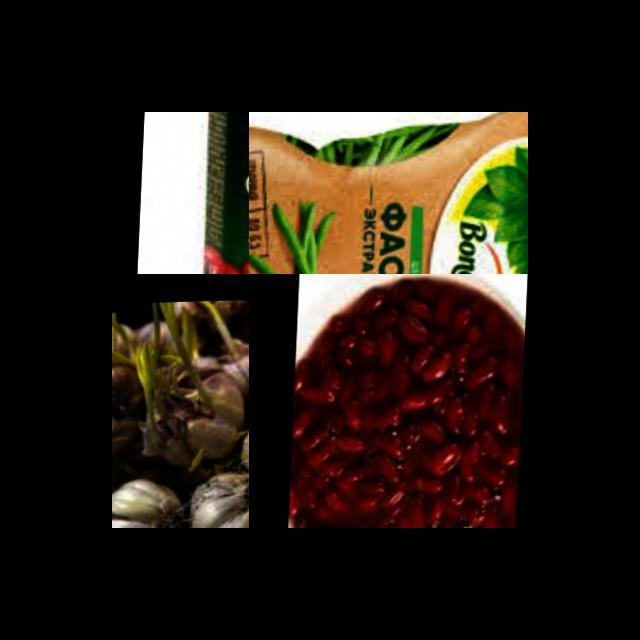garlic: (112, 295, 249, 528)
